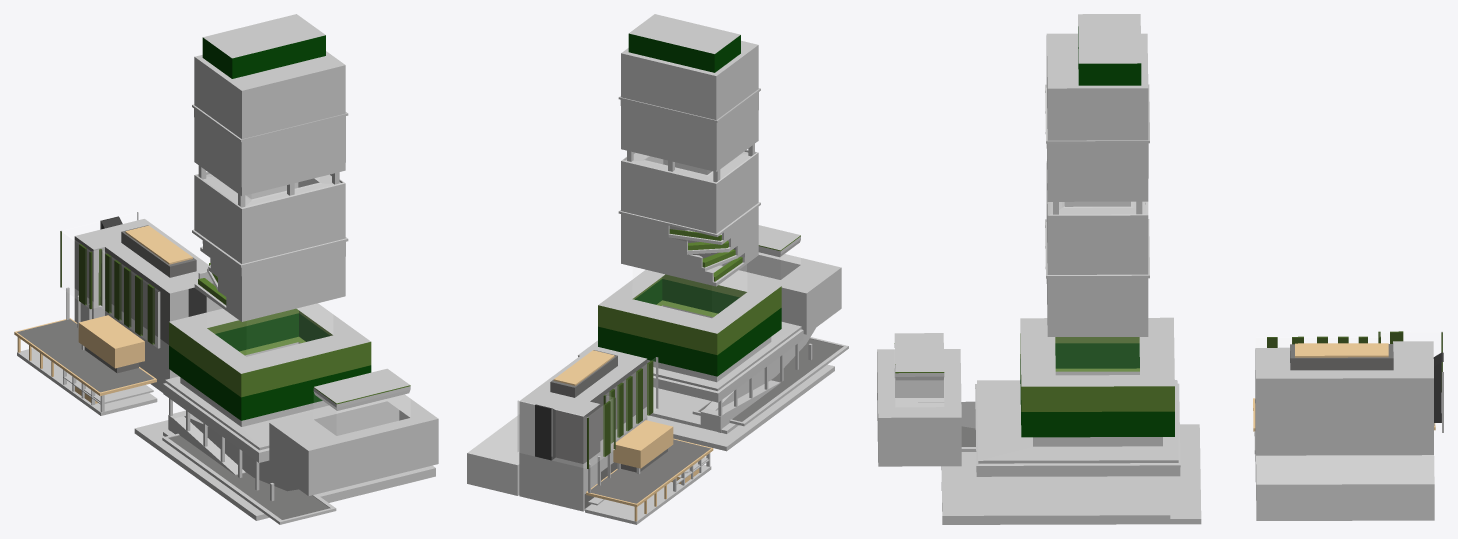
The model's file is MedBuildingsv3.gltf.
The picture shows the model from 3 angles, left to right: view 1: azimuth 30°, elevation 25°; view 2: azimuth 150°, elevation 25°; view 3: azimuth 270°, elevation 25°; orthographic projection. The views are drawn at different scales.
Parts seen in each view (by area): view 1: Tower, Far back, Mid, Front, Cube.001, Cube.002; view 2: Tower, Mid, Front, Far back, Balcony, Cube.001; view 3: Tower, Mid, Balcony, Far back.
Boxes of the visible parts, x1=… form: Tower: x1=134, y1=14, x2=435, y2=524; Far back: x1=269, y1=368, x2=438, y2=496; Mid: x1=60, y1=212, x2=222, y2=403; Front: x1=14, y1=315, x2=157, y2=415; Cube.001: x1=169, y1=398, x2=274, y2=501; Cube.002: x1=83, y1=385, x2=153, y2=403; Tower: x1=578, y1=14, x2=848, y2=451; Mid: x1=517, y1=346, x2=699, y2=511; Front: x1=585, y1=420, x2=713, y2=524; Far back: x1=711, y1=225, x2=841, y2=334; Balcony: x1=467, y1=414, x2=519, y2=495; Cube.001: x1=718, y1=343, x2=812, y2=432; Tower: x1=918, y1=14, x2=1201, y2=524; Mid: x1=1255, y1=331, x2=1443, y2=481; Balcony: x1=1256, y1=455, x2=1434, y2=520; Far back: x1=877, y1=333, x2=961, y2=466.
Size of the model in its own units: 73.07 by 147 by 173.
